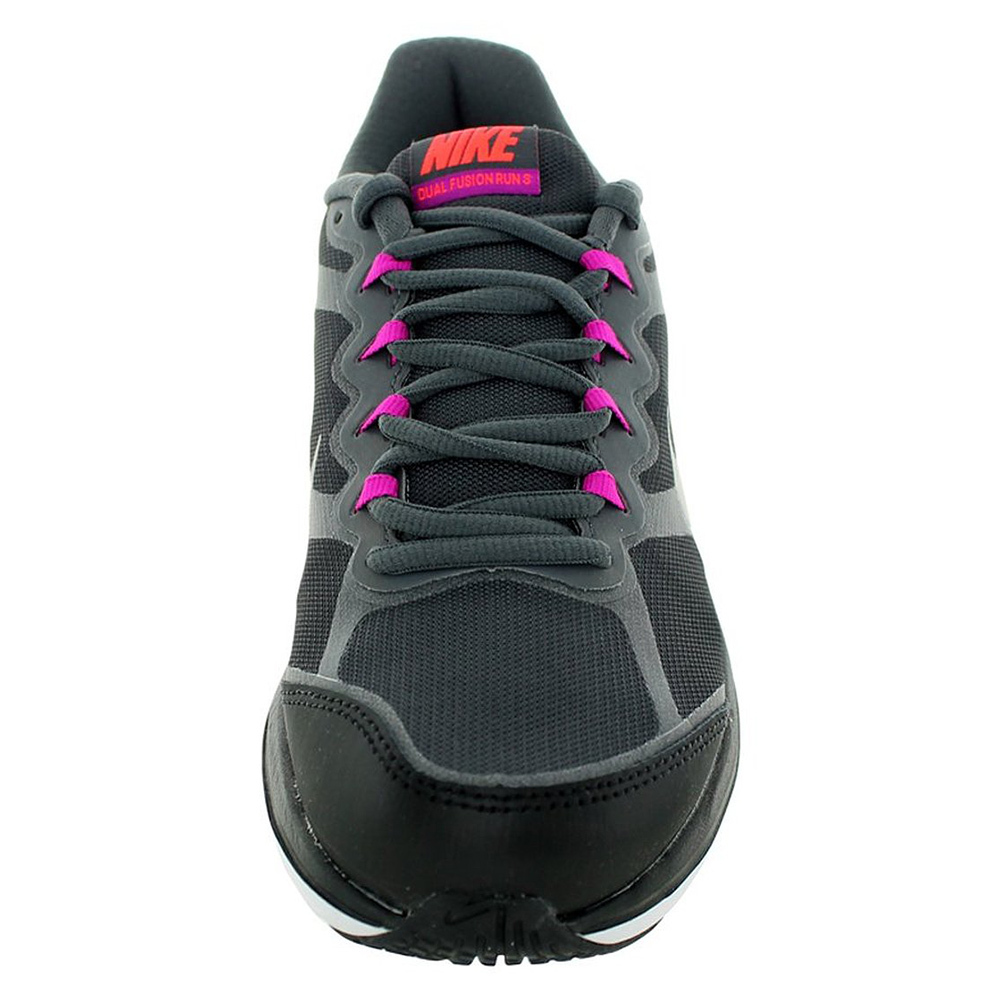Nike: (415, 122, 533, 176)
